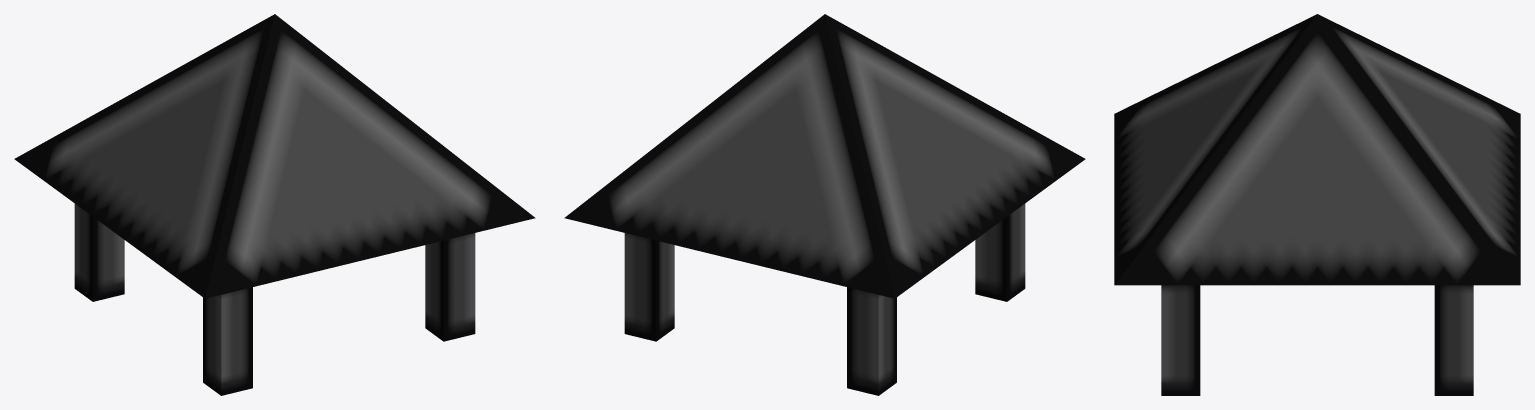
Rendered from arch_chimney_capA.FBX.
3 renders of one model, left to right at view 1: azimuth 30°, elevation 25°; view 2: azimuth 150°, elevation 25°; view 3: azimuth 270°, elevation 25°, orthographic. The views are drawn at different scales.
Parts seen in each view (by area): view 1: arch_chimney_capA; view 2: arch_chimney_capA; view 3: arch_chimney_capA.
Part boxes in pixels (x1,y1,x2,y2): arch_chimney_capA: [14, 14, 535, 395]; arch_chimney_capA: [564, 14, 1085, 395]; arch_chimney_capA: [1114, 14, 1520, 395].
Size of the model in its own units: 1.04 by 0.8942 by 1.04.
1 material, 1 textured.
